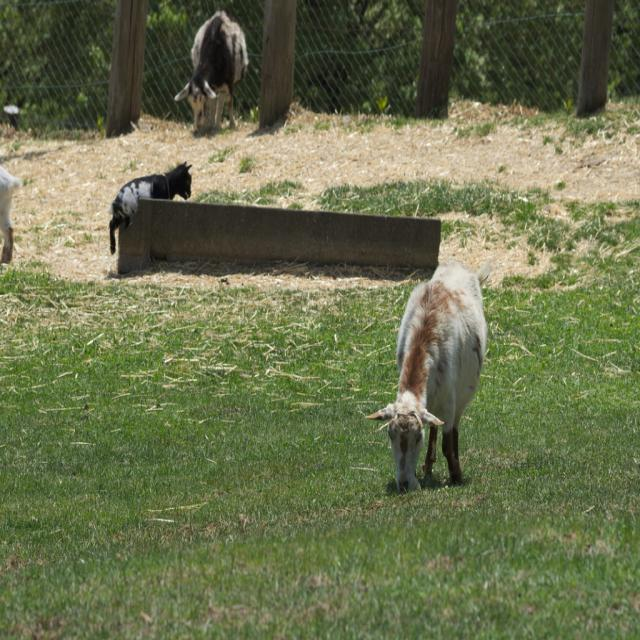Goat: (364, 274, 497, 500), (174, 12, 248, 132)
